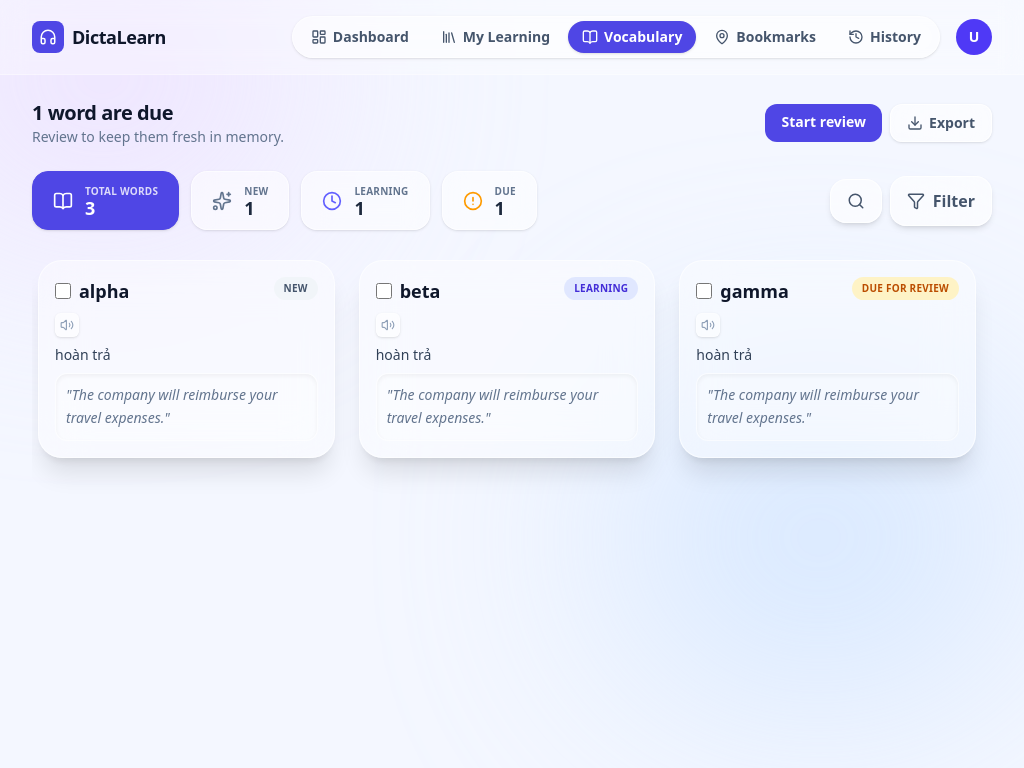
Test: VocabularyPage › clicking the Due metric shows only cards matching due status
Expected: the number of elements with test id "vocab-card" is 3, 38,260 -> 335,458; 359,260 -> 655,458; 679,260 -> 976,458
Click the button with test id "vocab-stat-due". click: (489, 200)
box: 442,171 -> 537,230
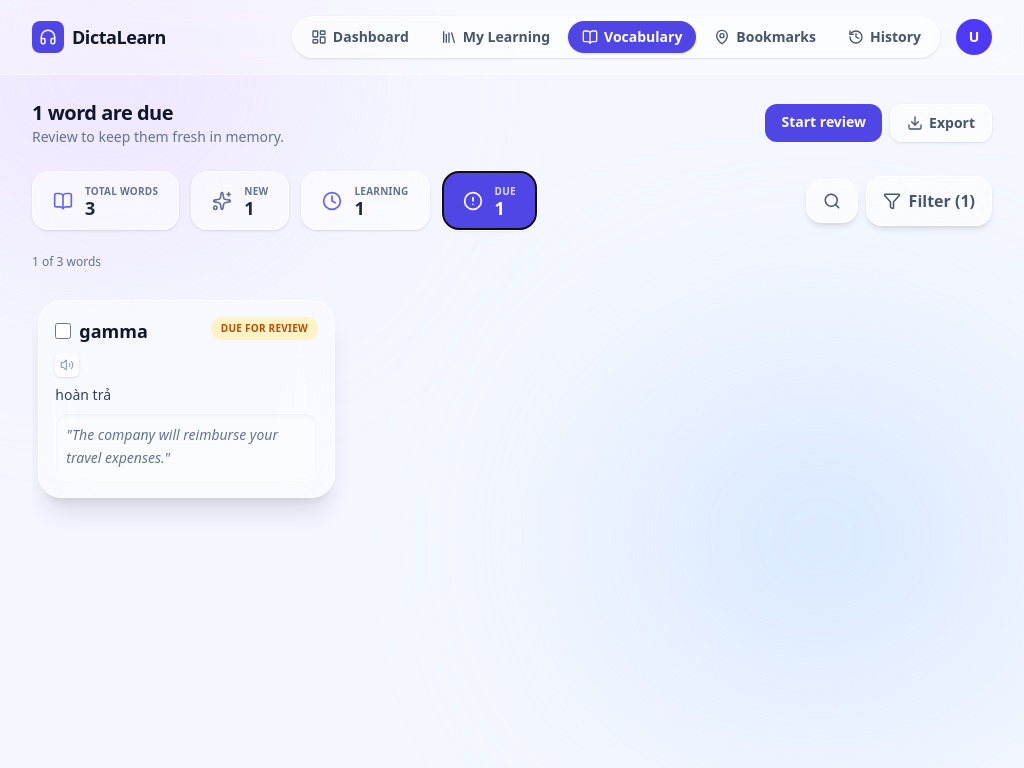
Result: the number of elements with test id "vocab-card" is 1 at 38,300 -> 335,498
